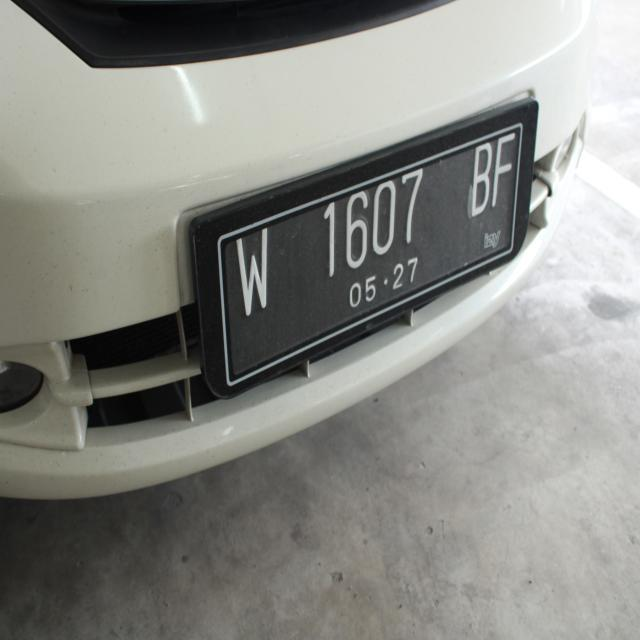0: (368, 170, 399, 266)
1: (302, 198, 345, 288)
6: (339, 171, 378, 281)
7: (391, 158, 428, 253)
B: (462, 134, 500, 226)
F: (489, 121, 524, 226)
W: (228, 228, 286, 324)
